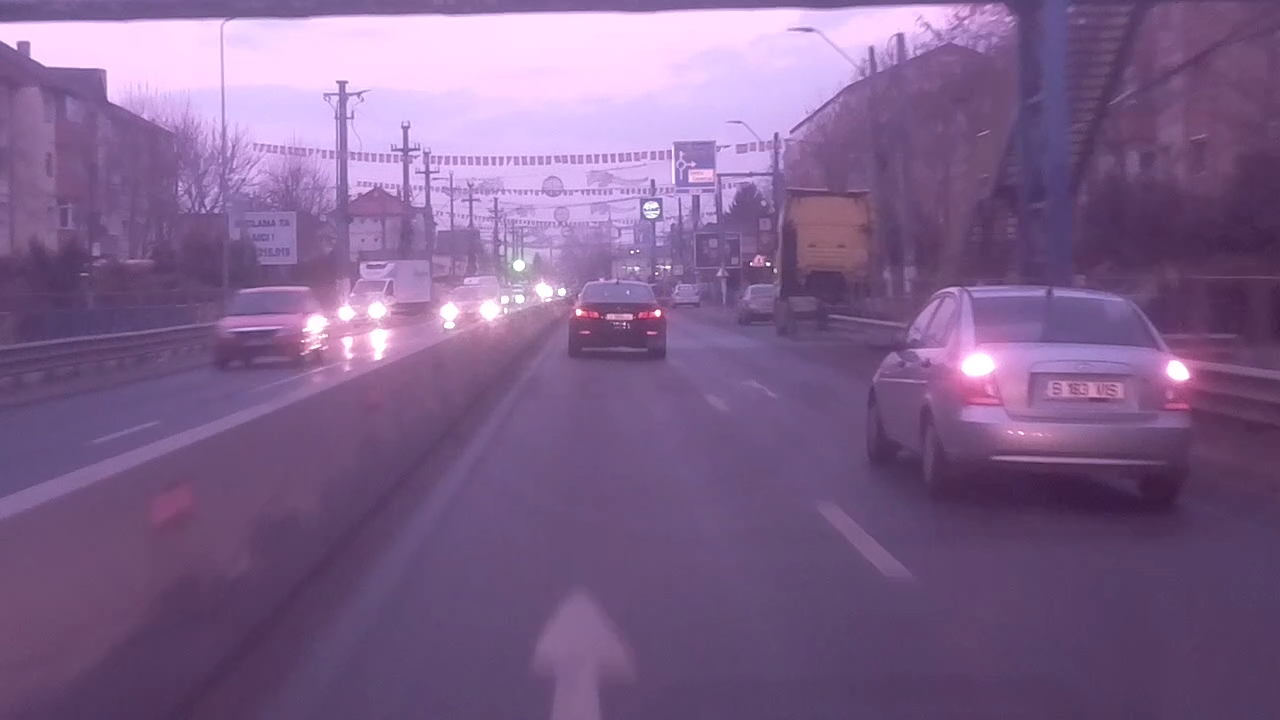license-plate: (1038, 378, 1127, 401)
